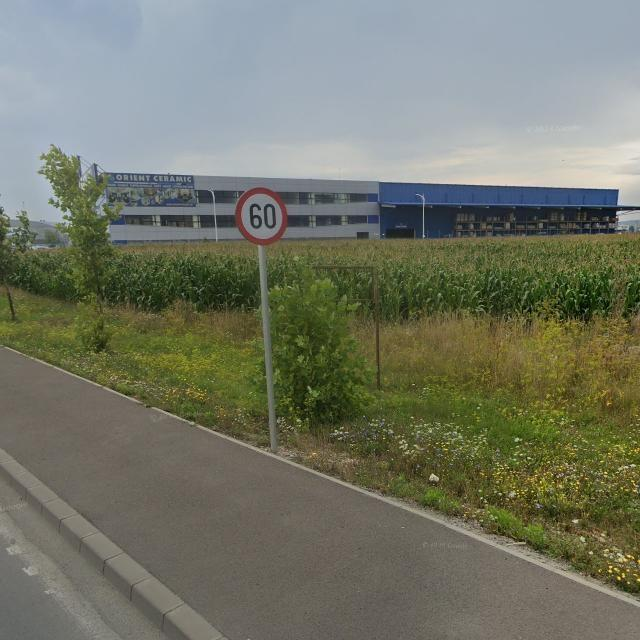forb_speed_over_60: (234, 186, 288, 245)
